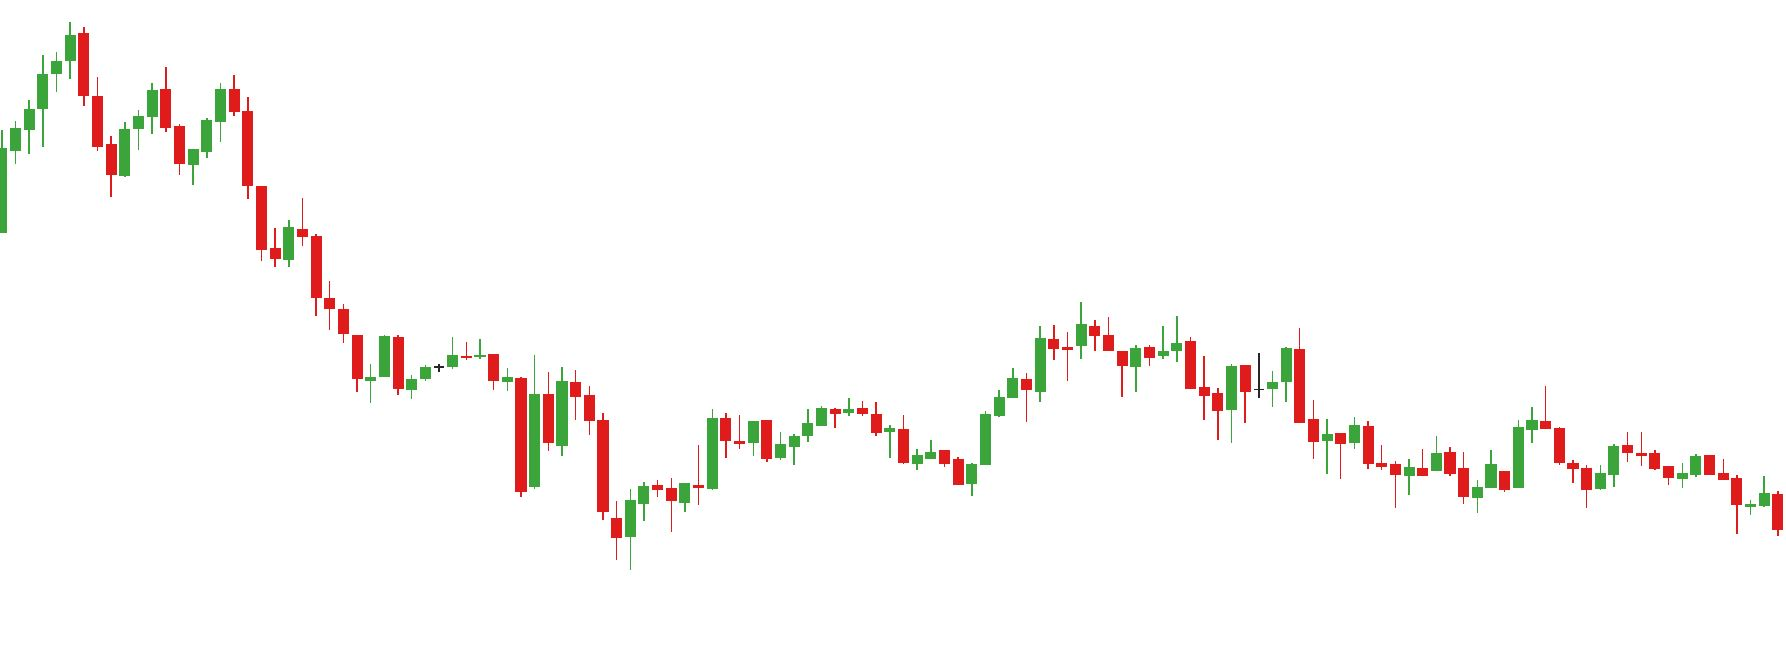buy: (514, 420, 650, 568)
